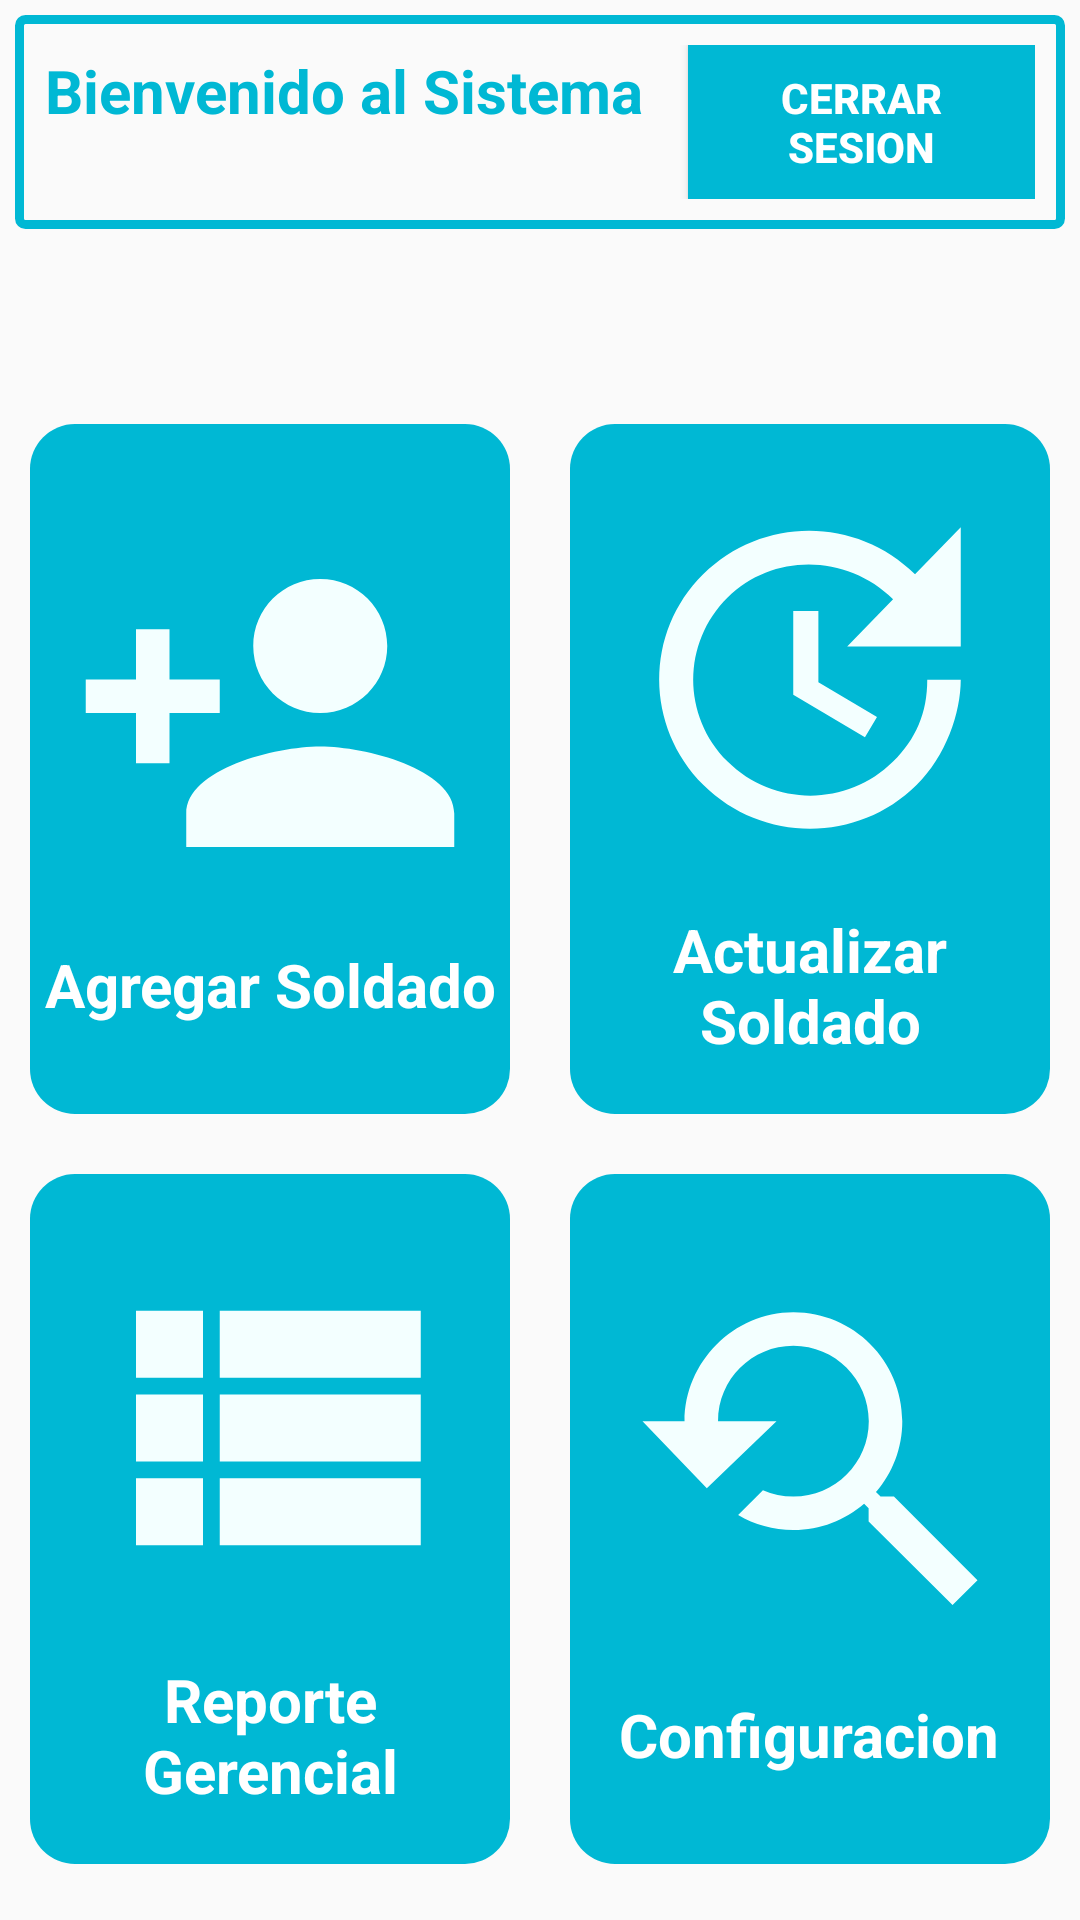

Icon click points for this 1080x1920 phone screenshot, format (x,y):
list: (278,1428)
